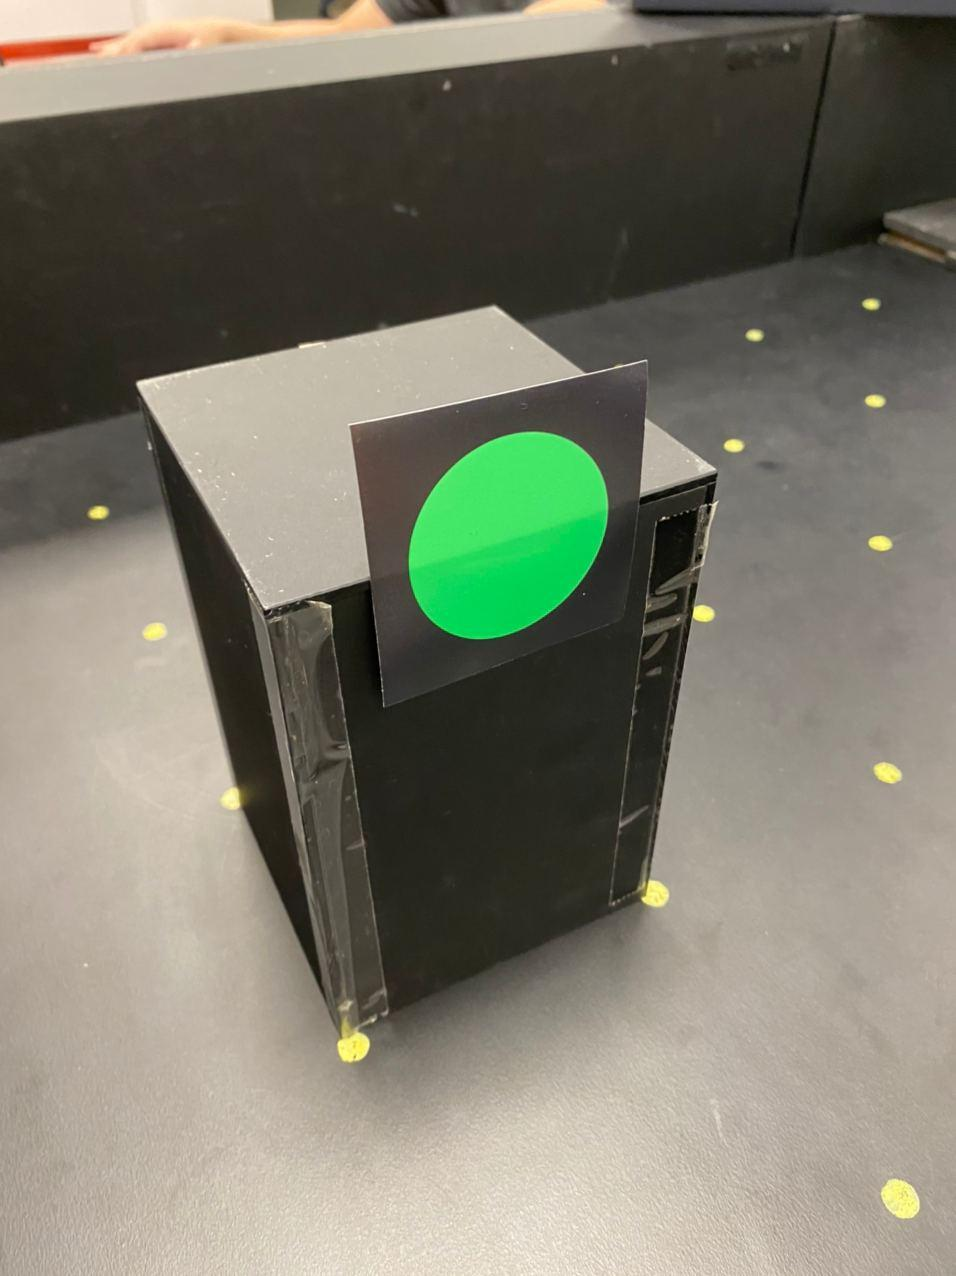go: (396, 433, 626, 641)
